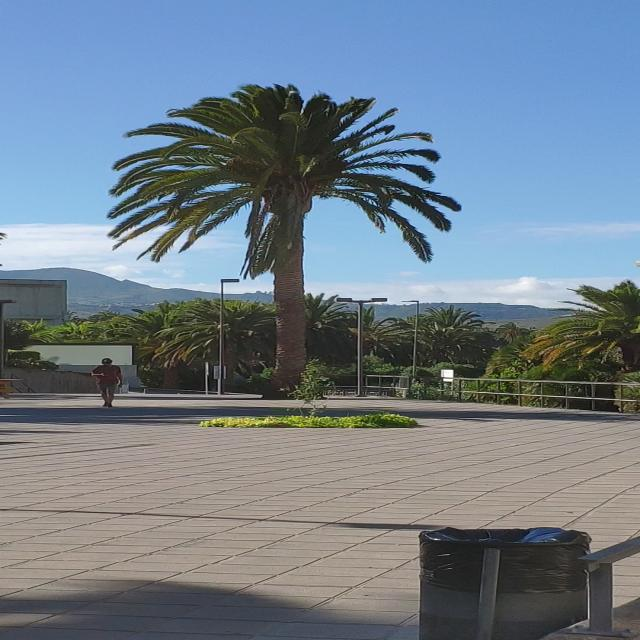Palm-Trees: (121, 79, 456, 392)
